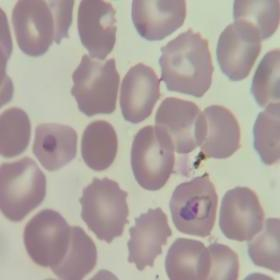Infected: (169, 172, 220, 237)
Uninfected: (161, 29, 215, 96), (79, 176, 130, 242), (0, 156, 47, 222), (71, 54, 120, 115), (155, 97, 207, 153), (130, 125, 174, 191), (216, 20, 263, 81), (24, 207, 69, 268), (128, 205, 170, 269), (49, 227, 97, 280), (11, 0, 56, 56), (218, 187, 264, 241), (194, 105, 241, 157), (78, 0, 118, 61), (121, 62, 160, 124), (132, 0, 186, 43), (31, 122, 77, 171), (164, 235, 208, 280), (233, 0, 280, 42), (81, 120, 117, 172), (195, 243, 240, 280), (249, 218, 280, 270), (0, 107, 31, 159)
